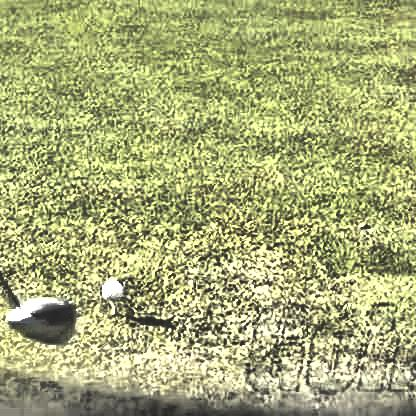golfball: (99, 276, 121, 298)
